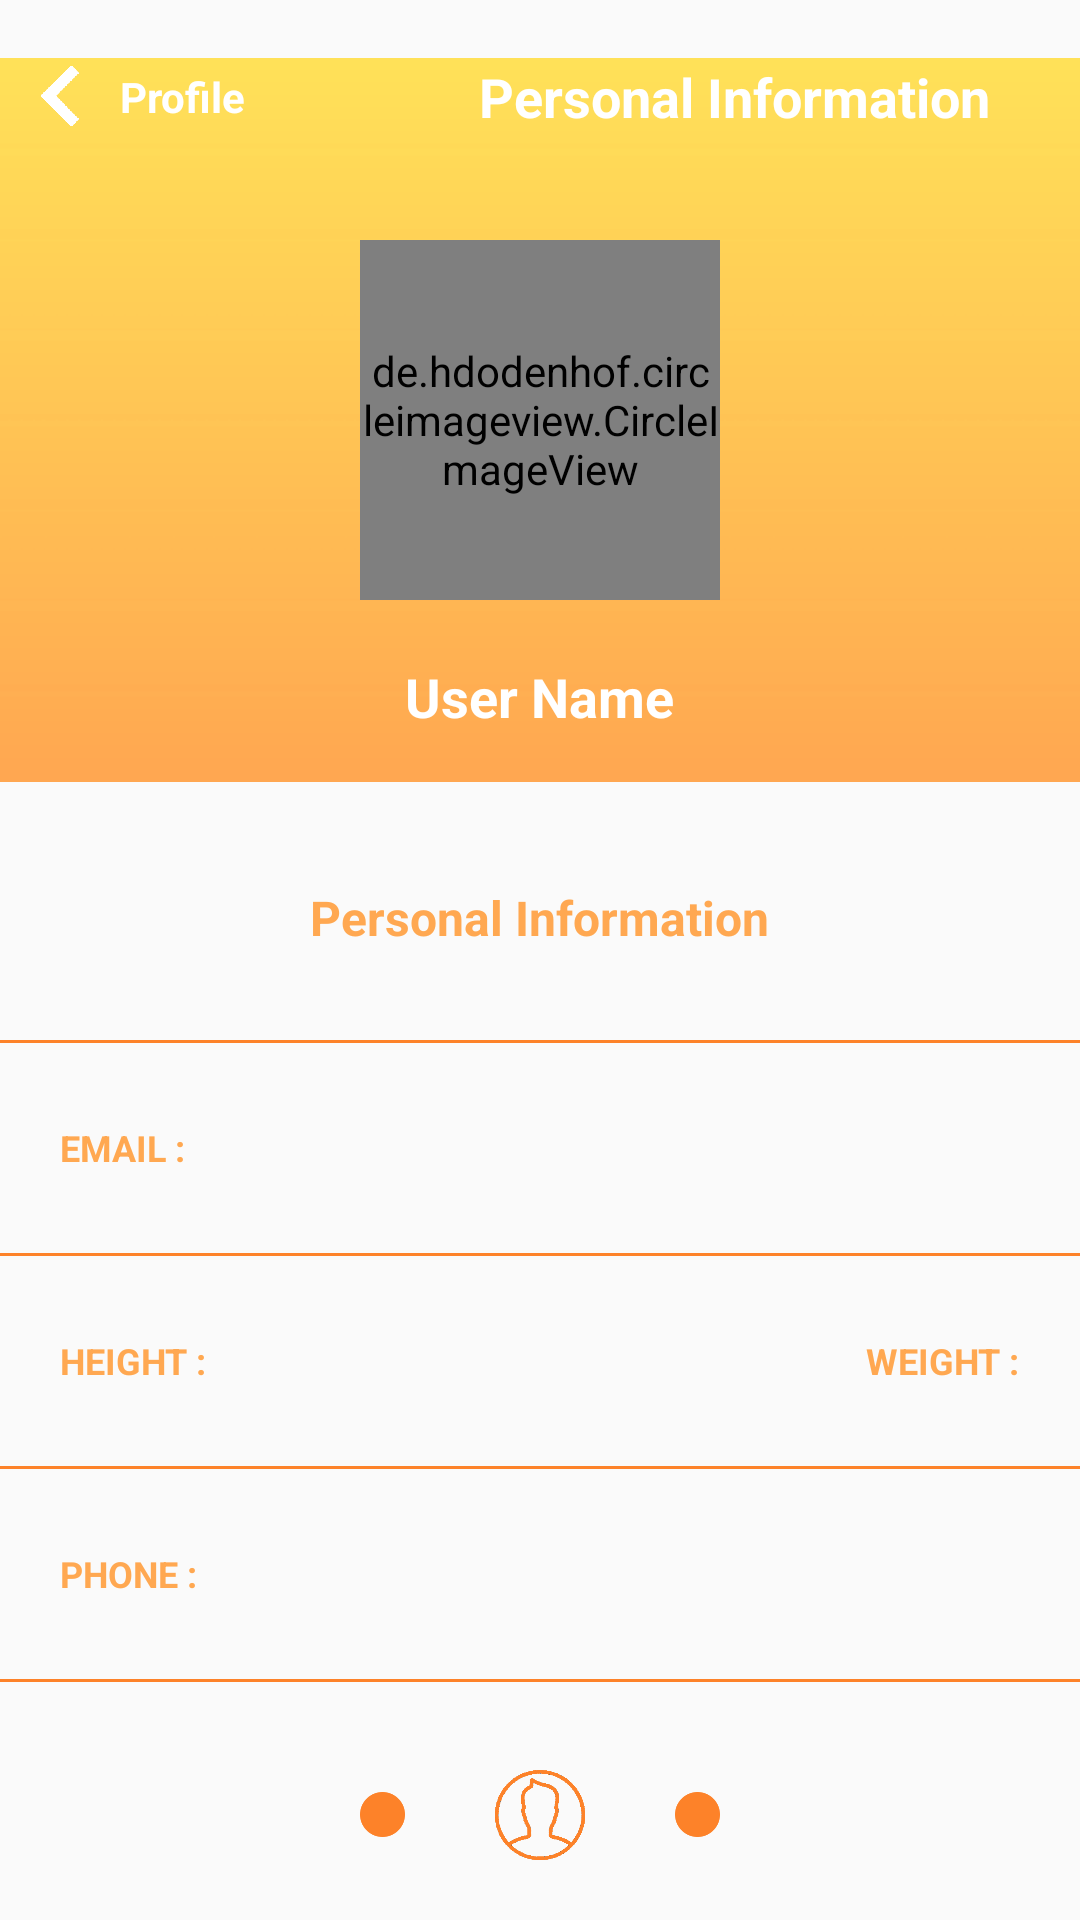

Where to tap for icons on this 1080*1920 app screen, as (x=x, y=y):
back: (x=60, y=96)
pro: (x=540, y=1815)
